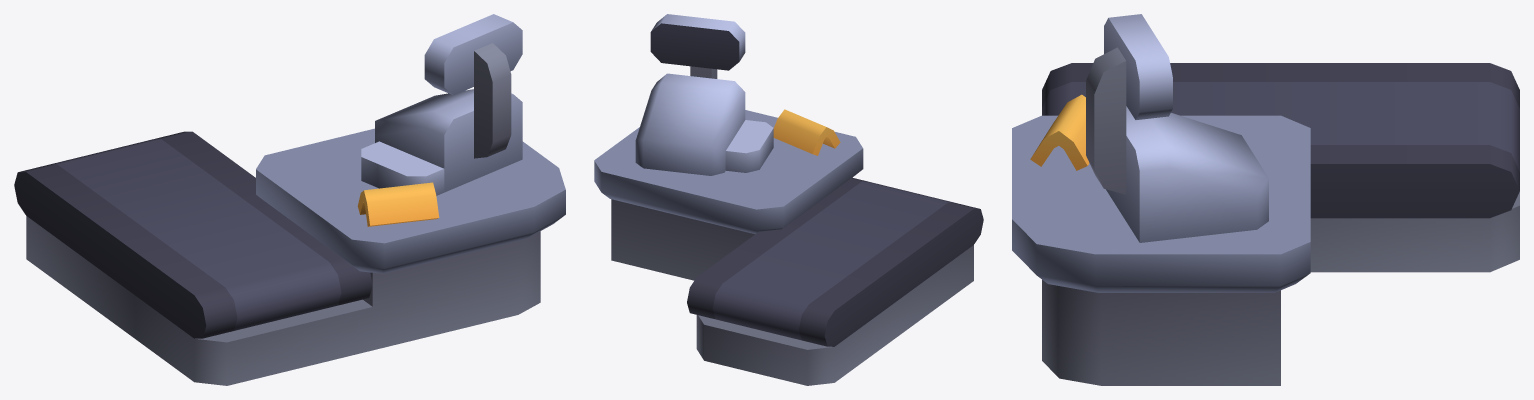
The model's file is cash-register.glb.
3 renders of one model, left to right at view 1: azimuth 30°, elevation 25°; view 2: azimuth 150°, elevation 25°; view 3: azimuth 270°, elevation 25°, orthographic. The views are drawn at different scales.
Visible parts, largest first — view 1: cash-register; view 2: cash-register; view 3: cash-register.
Boxes of the visible parts, x1,y1,x2,y2 form: cash-register: (14, 14, 565, 385); cash-register: (594, 14, 983, 385); cash-register: (1012, 14, 1519, 385).
Size of the model in its own units: 0.9 by 0.5906 by 0.85.
Materials: 1 (1 with a texture image).
